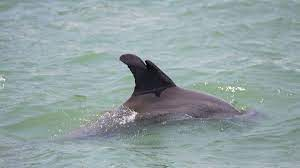fin: (54, 47, 266, 141)
